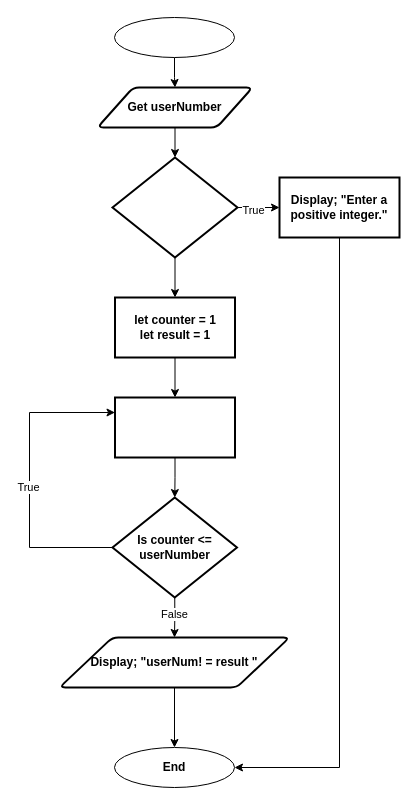
Image size: 418x805. Some labels were removed from this diagram. The centre of each missing label's shape, as x and y in pixels:
is userNumber = 0: (x=174, y=207)
result = result * counter; counter++: (x=175, y=427)
Start: (x=174, y=37)
